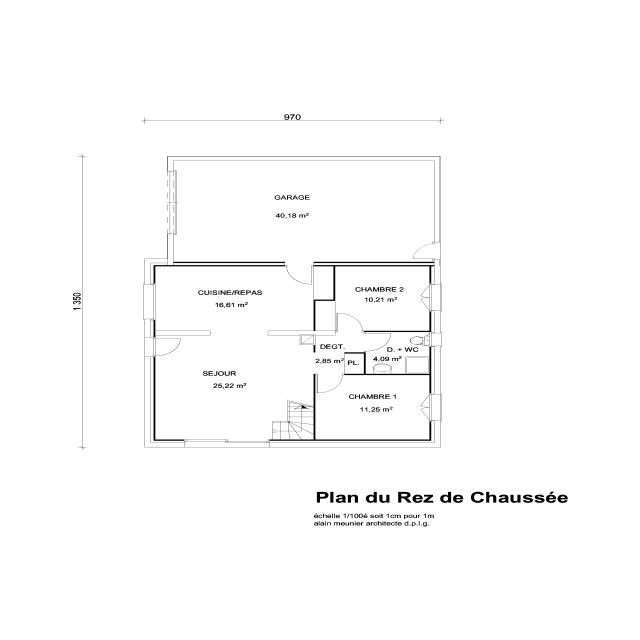door: (171, 158, 439, 264), (333, 310, 367, 335), (283, 261, 315, 287), (153, 334, 185, 356), (406, 240, 441, 260), (360, 332, 394, 352), (314, 373, 344, 394)
window: (145, 283, 160, 323), (178, 436, 231, 446), (425, 331, 438, 350)
zone: (167, 158, 440, 264), (154, 331, 312, 440), (152, 266, 323, 338), (314, 374, 432, 440), (332, 265, 434, 332), (364, 331, 432, 374), (311, 350, 365, 375)
